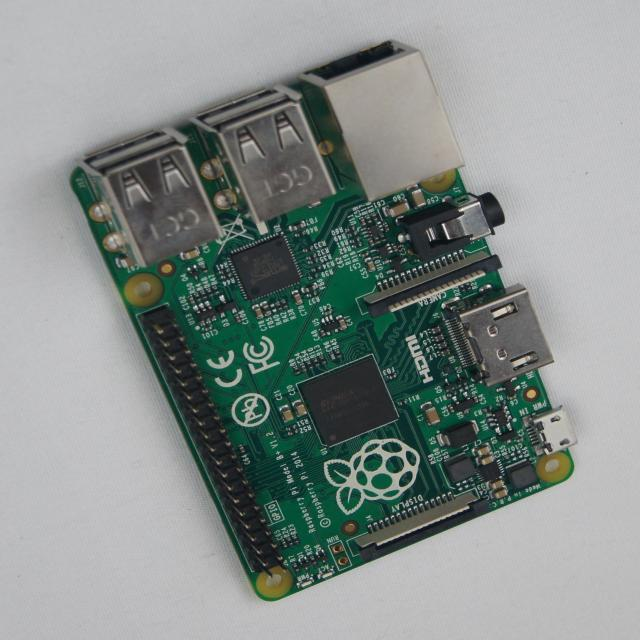Raspberry Pi 1 B-: (72, 41, 574, 601)
